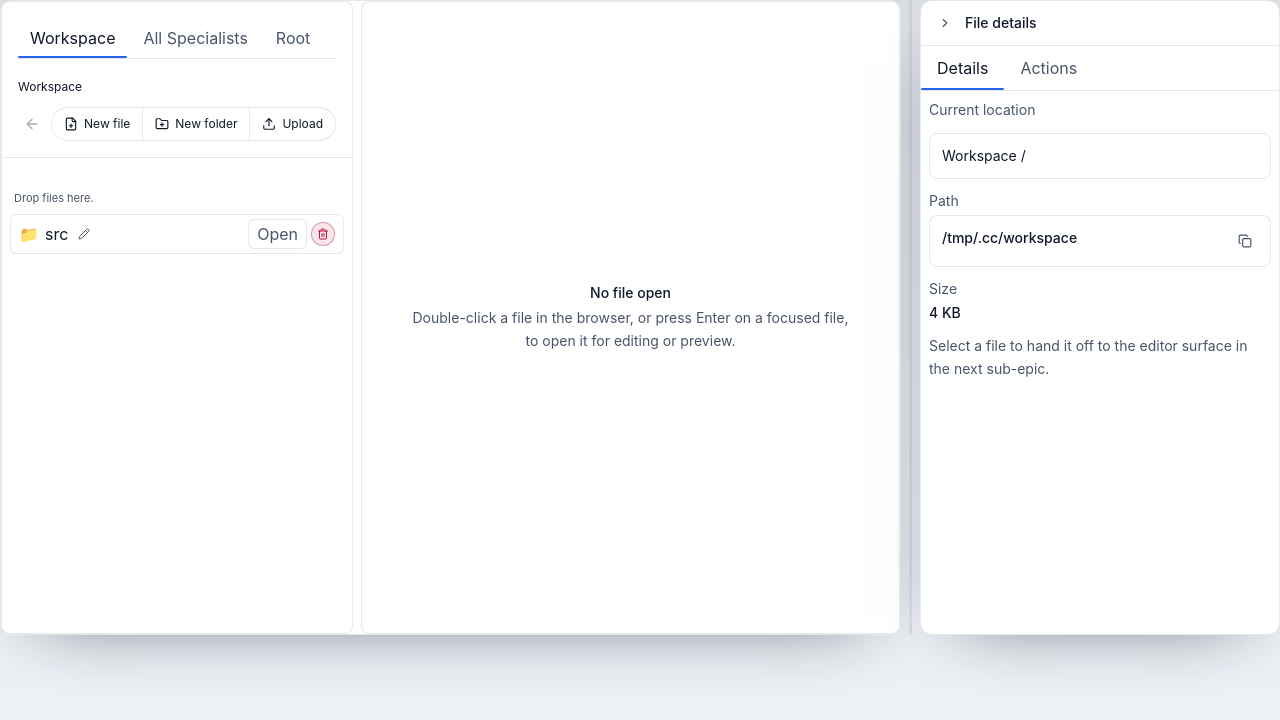
FileManagerPage upload panel › shows an error message when the upload request fails
Check: the button "src" is shown, box top-left (45, 222), bottom-right (68, 246)
Click the button "Upload". click: {"x": 292, "y": 124}
box: top-left (249, 108), bottom-right (335, 140)
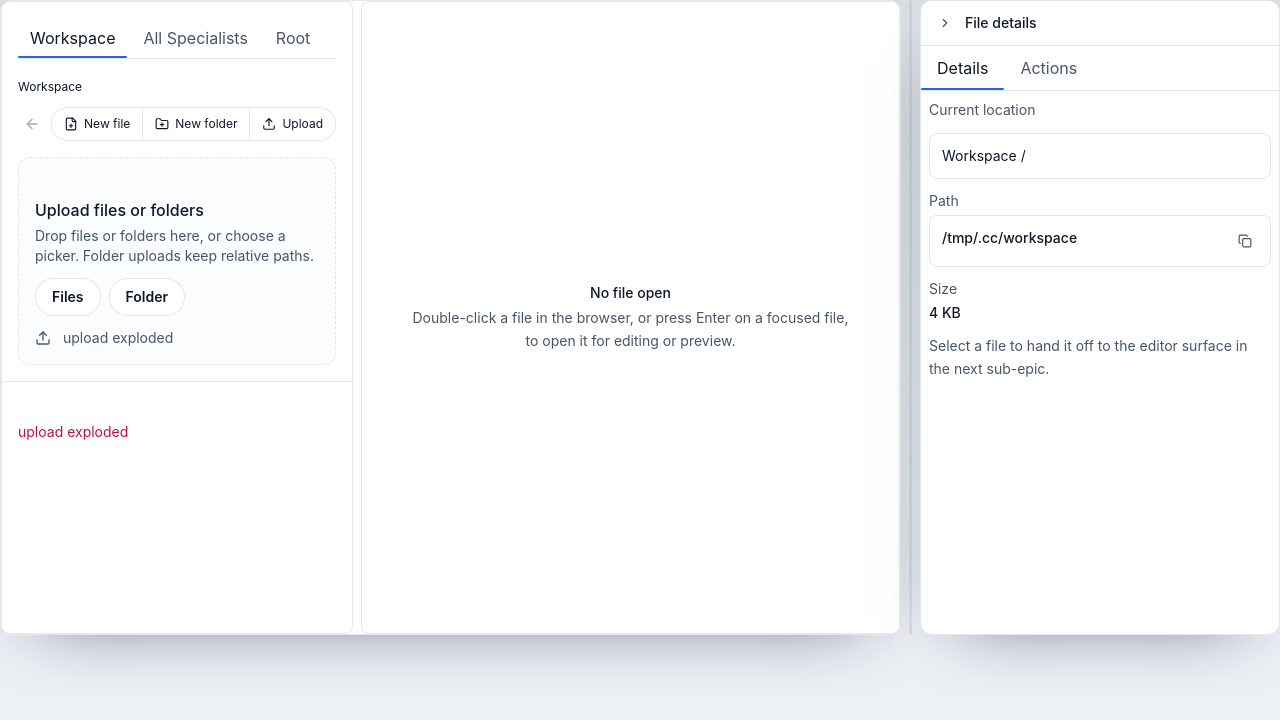
Check: the text "upload exploded" below "Upload files or folders" is shown, box top-left (63, 329), bottom-right (173, 346)
